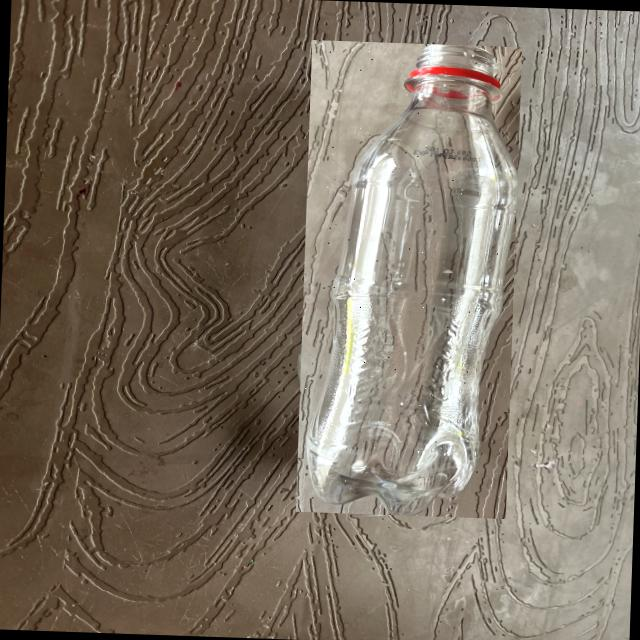PET_With_Cap: (296, 39, 522, 518)
